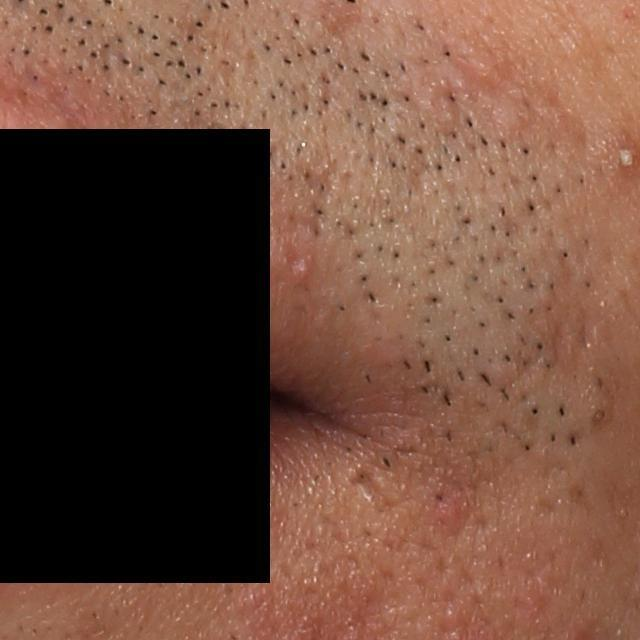atrophic_scar: (342, 464, 392, 512)
comedo: (587, 405, 610, 426)
papule: (436, 487, 477, 530), (286, 248, 317, 285)
